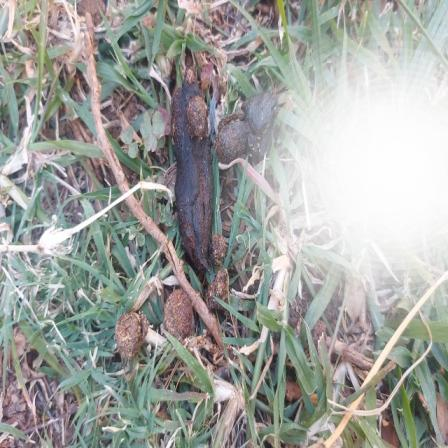dog-poop: (175, 61, 275, 262)
